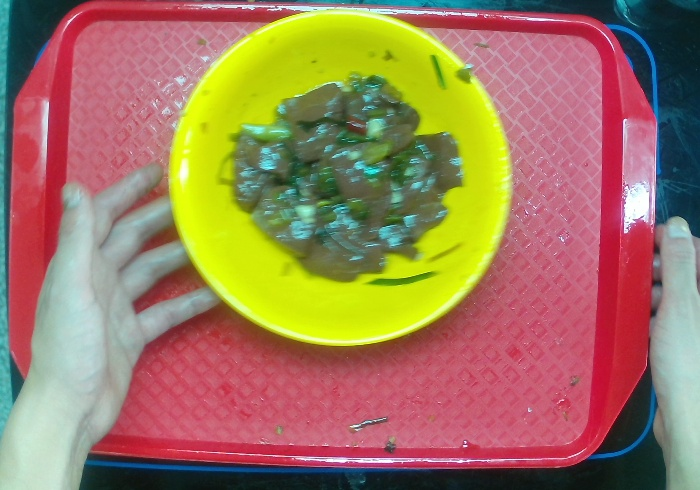YKMZ-Huang_Se_Tang_Wan: (163, 6, 514, 350)
